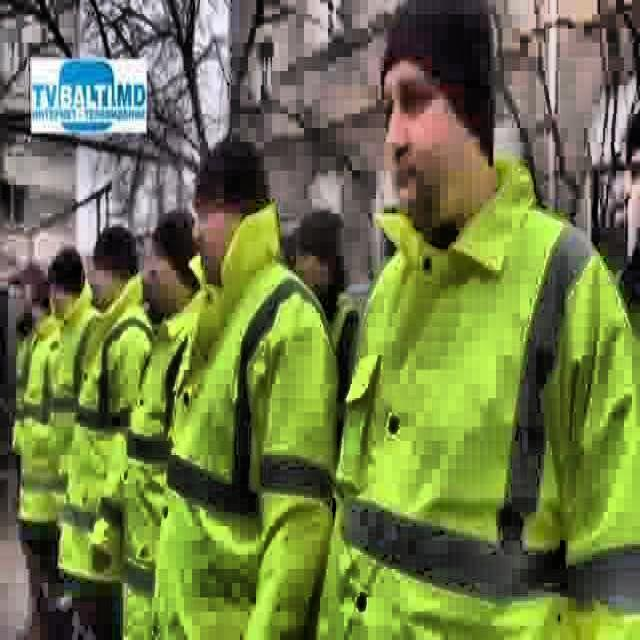safety_jacket: (317, 147, 640, 640), (148, 206, 341, 640), (56, 272, 156, 594), (121, 290, 206, 640), (40, 275, 100, 537), (15, 314, 63, 524)
